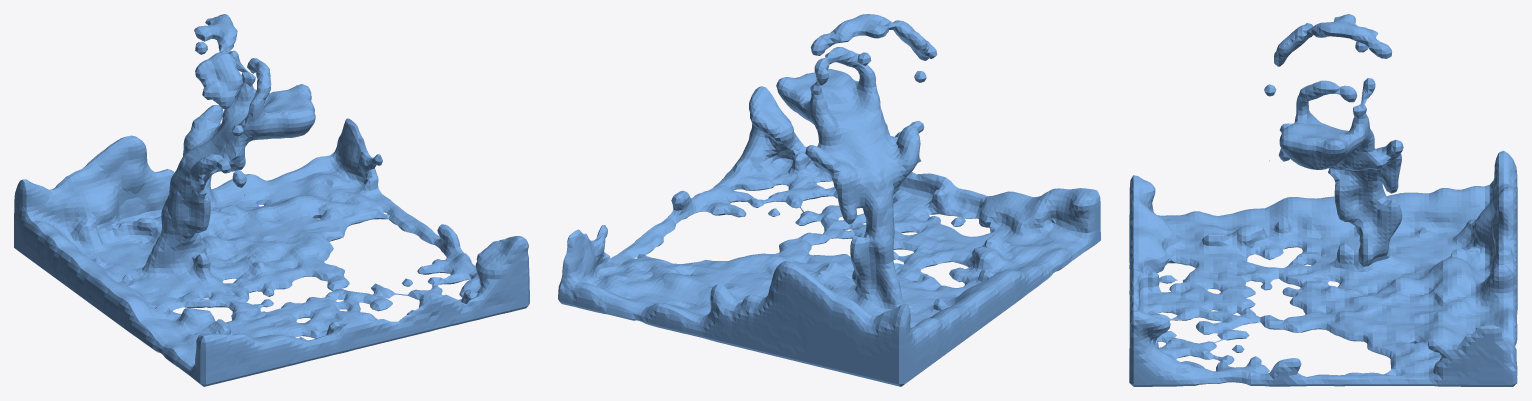
File: water_0075.glb
3 views of the same model, side by side, from view 1: azimuth 30°, elevation 25°; view 2: azimuth 150°, elevation 25°; view 3: azimuth 270°, elevation 25° (orthographic). The views are drawn at different scales.
Parts seen in each view (by area): view 1: Water_0075; view 2: Water_0075; view 3: Water_0075.
Boxes of the visible parts, bbox=[...] form: Water_0075: bbox=[14, 14, 529, 386]; Water_0075: bbox=[558, 14, 1100, 386]; Water_0075: bbox=[1129, 14, 1517, 386].
Size of the model in its own units: 4.83 by 3.63 by 4.83.
